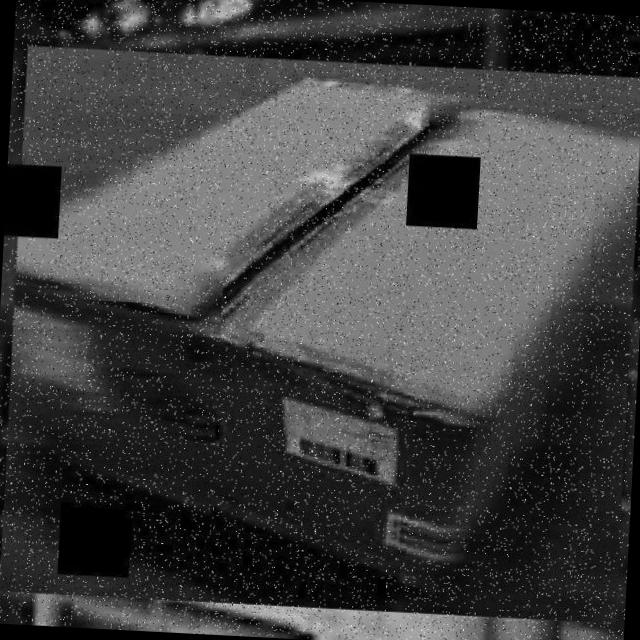box: (0, 36, 640, 633)
